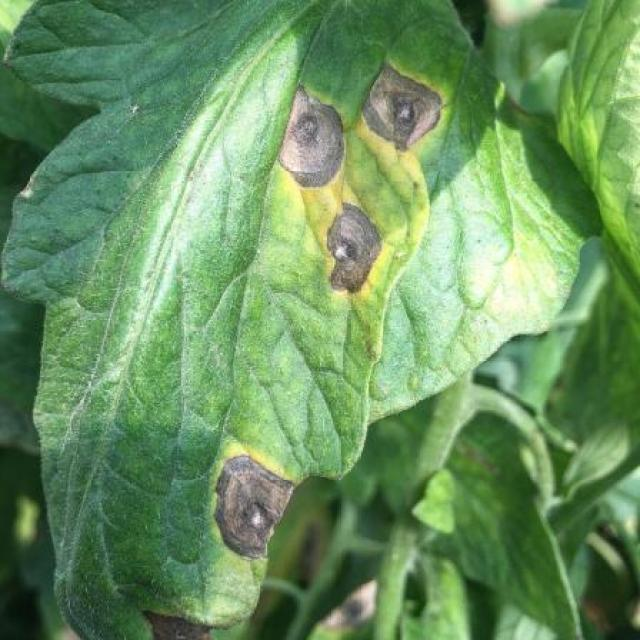Early Blight: (0, 0, 456, 640)
